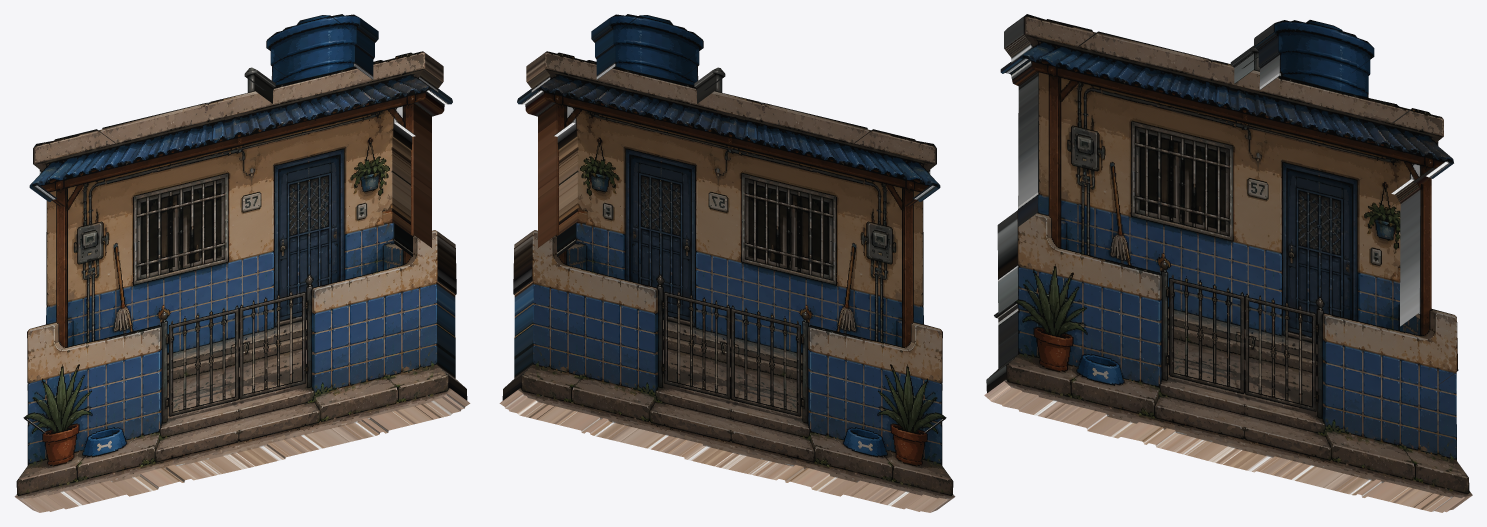
The model's file is house_10_front.glb.
3 renders of one model, left to right at view 1: azimuth 30°, elevation 25°; view 2: azimuth 150°, elevation 25°; view 3: azimuth 330°, elevation 25°, orthographic. The views are drawn at different scales.
Visible parts, largest first — view 1: world; view 2: world; view 3: world.
Part boxes in pixels (x1,y1,x2,y2): world: (14,14,470,512); world: (499,14,955,512); world: (984,14,1472,512).
Bounding box in the file's own units: 8.29 × 7.55 × 0.6048.
1 material, 1 textured.
